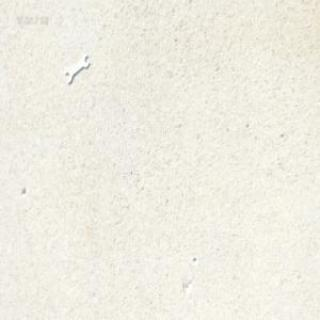Wrenchtrack_idkeyframe: (64, 49, 89, 82)
